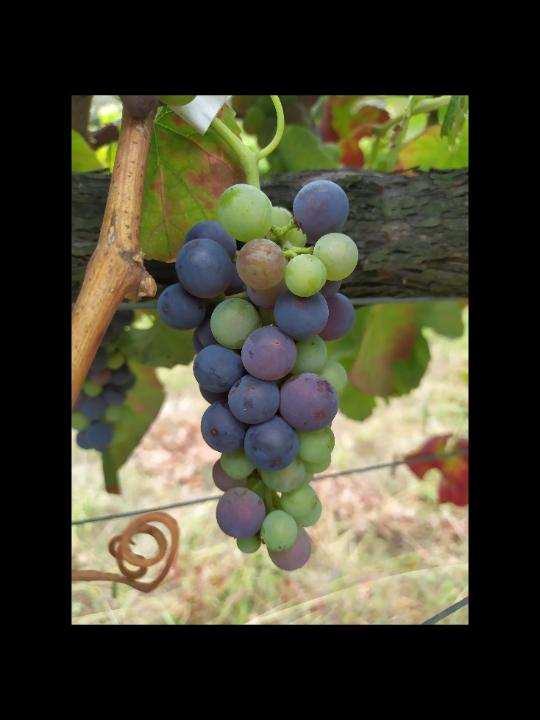grape: (156, 176, 361, 572)
